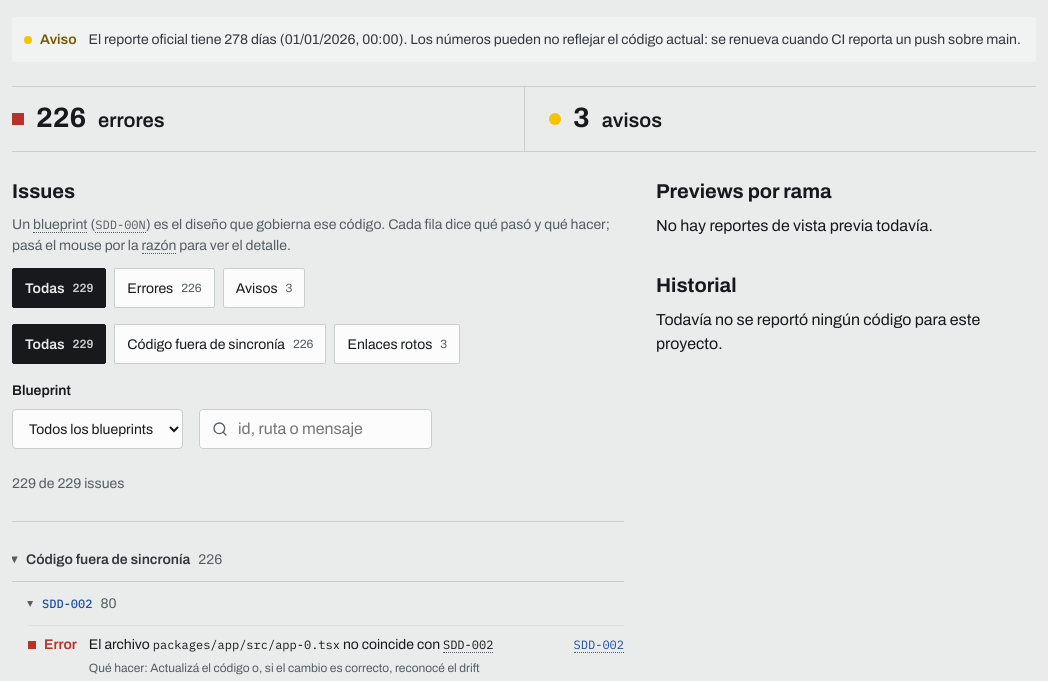
it: DriftDashboard · triage (SDD-061) › narrows the list by issue kind from the type chips
The image size is (1048, 681).
Click the radio button labelled "Enlaces rotos 3".
click(397, 344)  # box [334, 324, 460, 364]
(page scrolled)
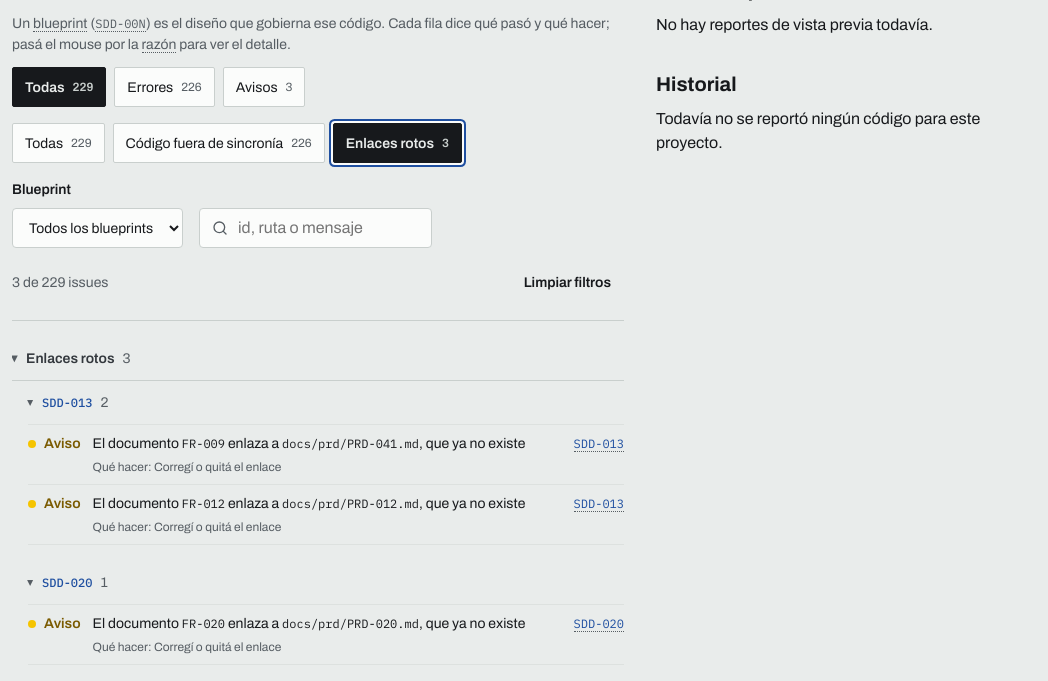
Expected: the element that starts with "Enlaces rotos" is shown, [12, 337, 624, 665]
Expected: the number of list items is 3, [28, 425, 624, 485]; [28, 485, 624, 545]; [28, 605, 624, 665]
Expected: the element "Issues de drift" no longer shows "Código fuera de sincronía"
